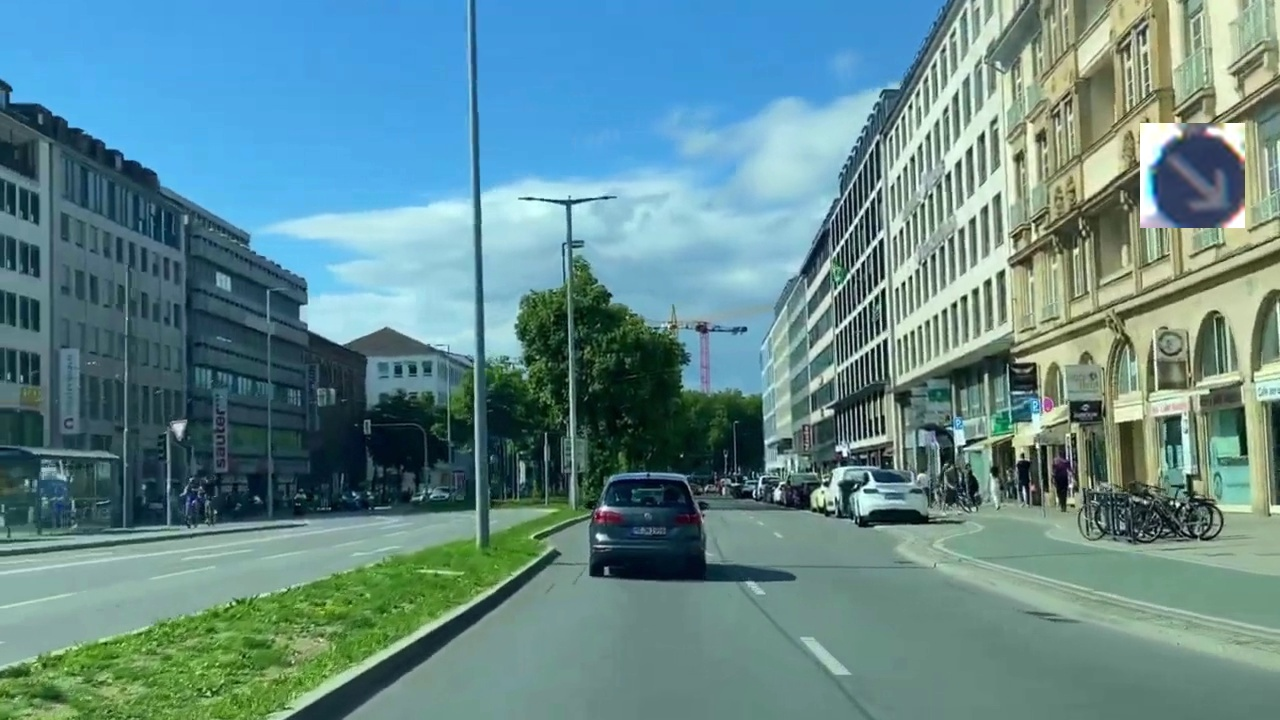Keep right: (1140, 123, 1245, 228)
